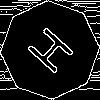H: (25, 25, 83, 82)
